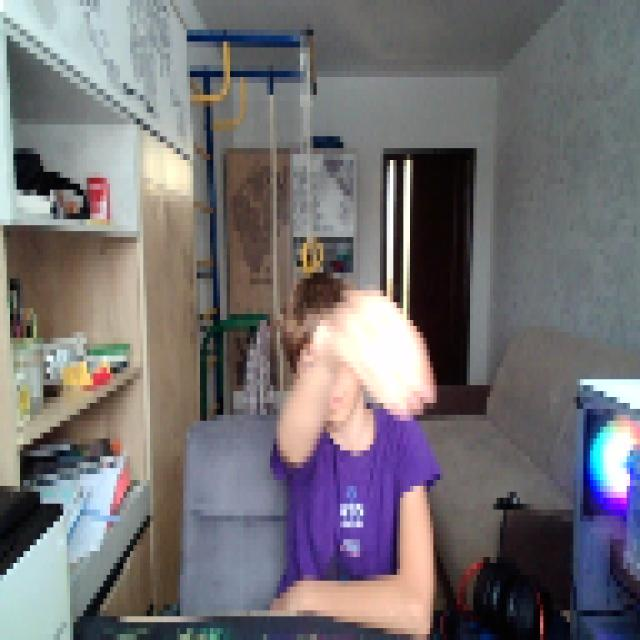left_click: (327, 278, 433, 421)
